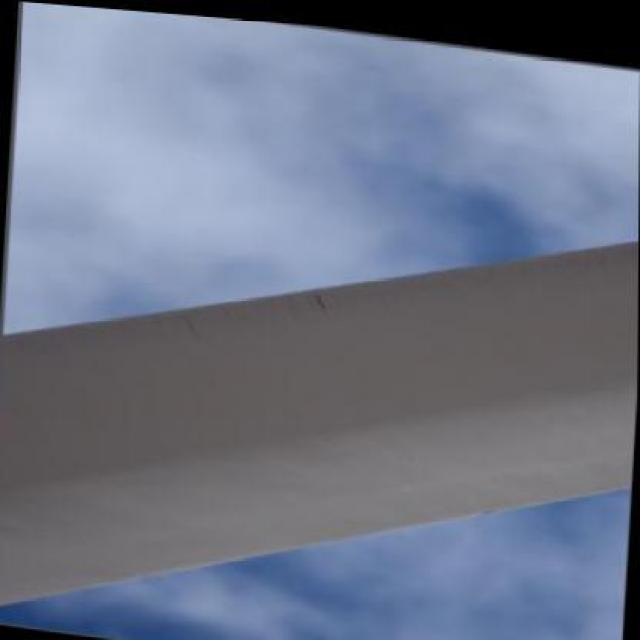Crack: (299, 284, 334, 318)
